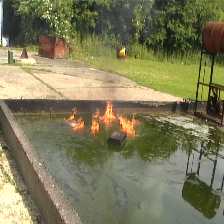fire_h: (64, 107, 85, 131), (118, 114, 138, 136), (98, 101, 117, 122)
fire_l: (90, 108, 99, 135)
